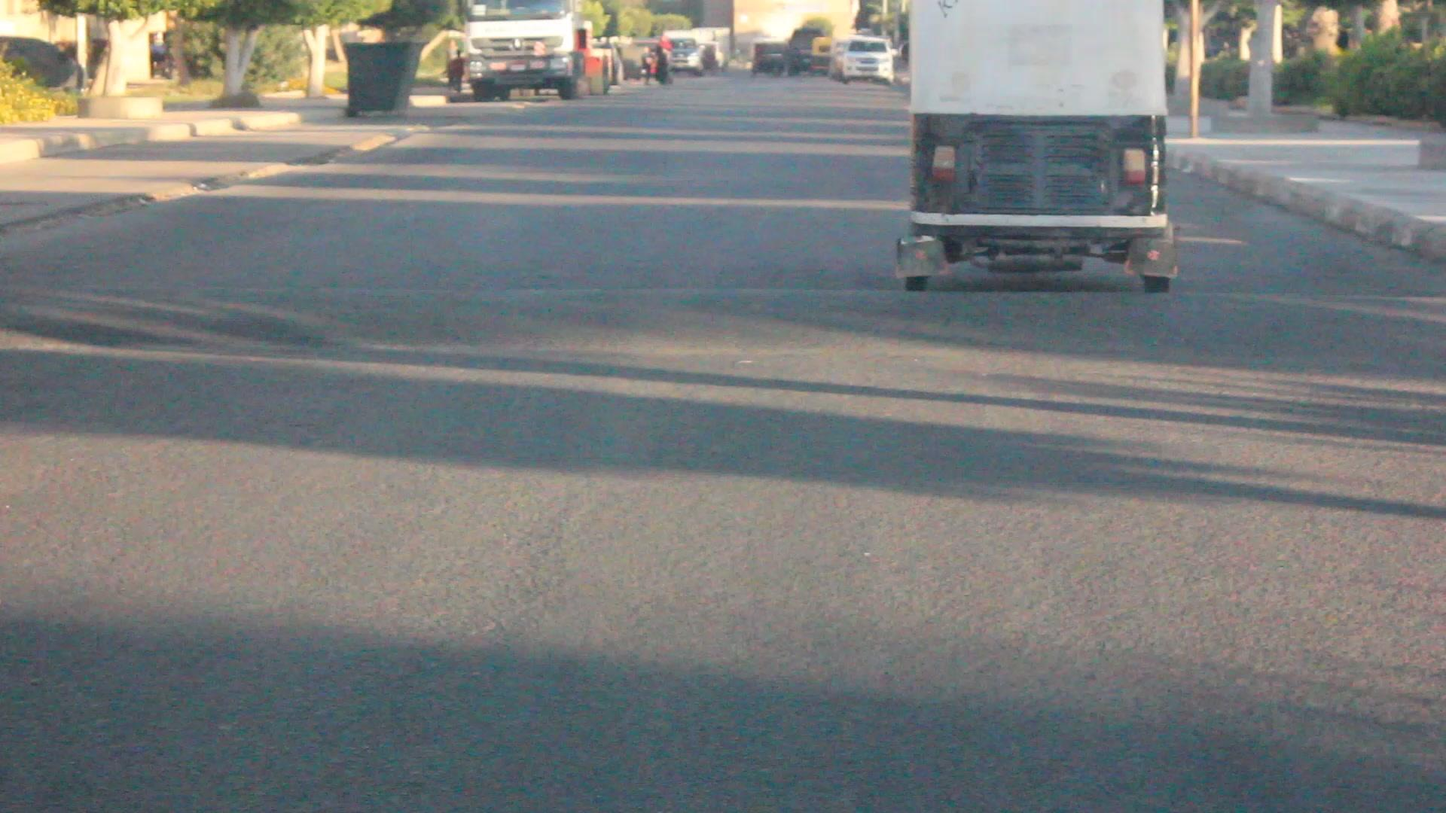Bump: (0, 290, 1446, 358)
